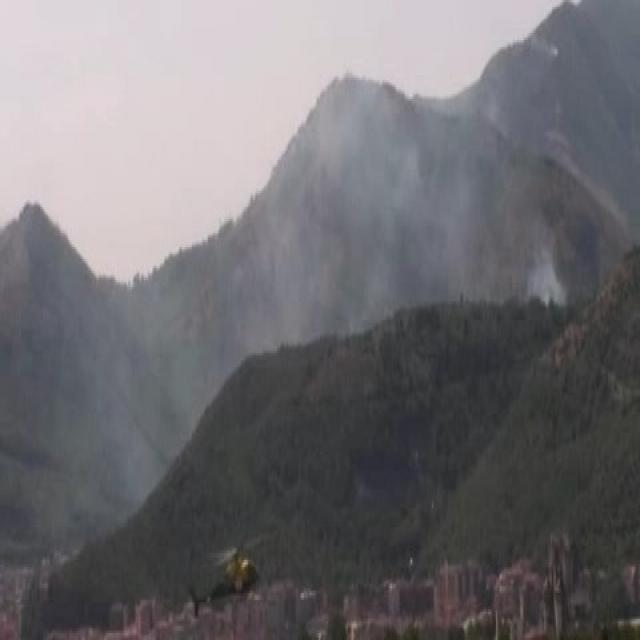smoke: (271, 98, 467, 326)
